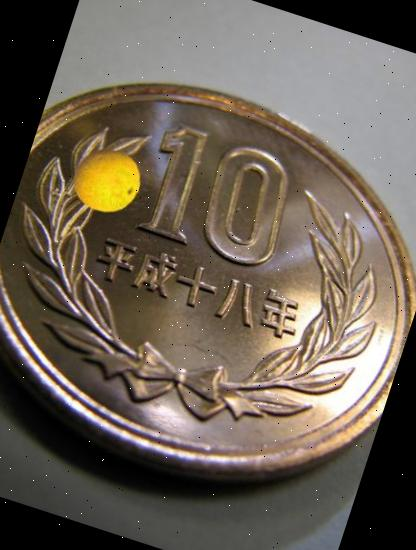Cantaloupe: (64, 138, 148, 222)
